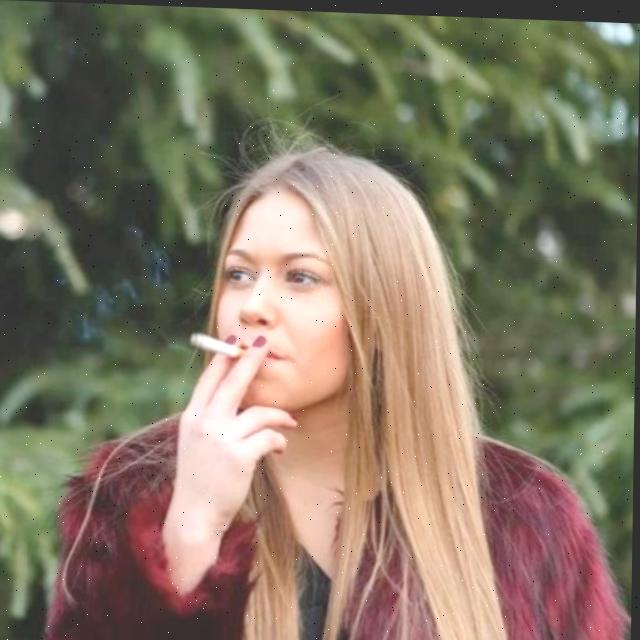cigarette: (190, 331, 246, 356)
